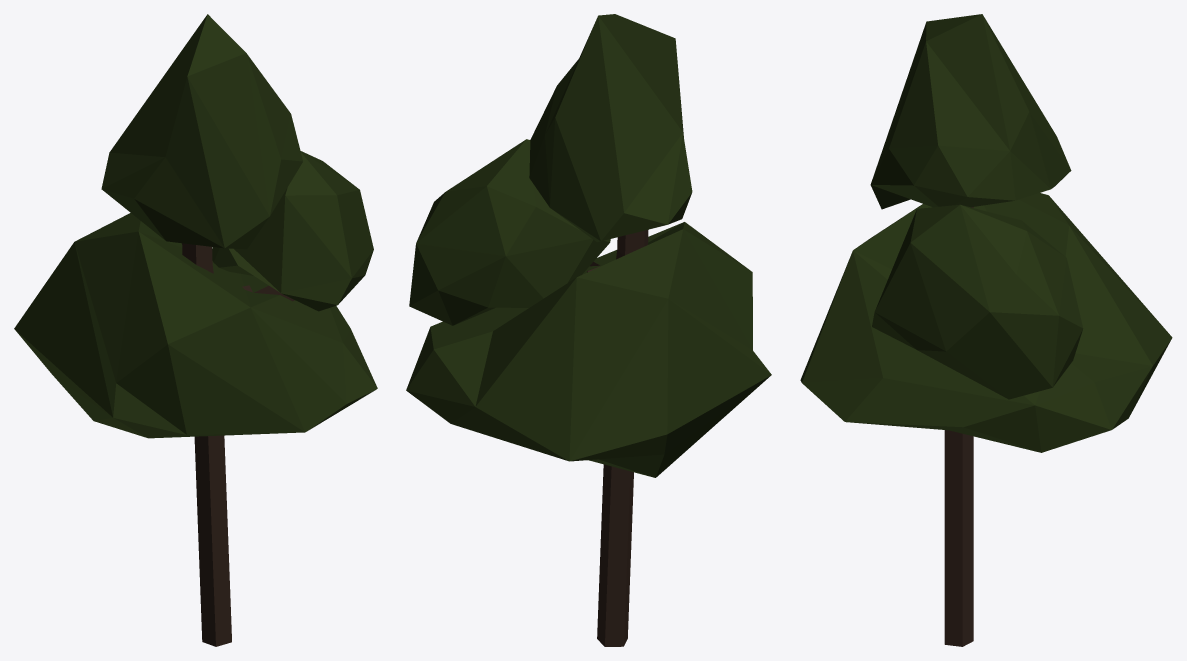
File: tree.obj
3 renders of one model, left to right at view 1: azimuth 30°, elevation 25°; view 2: azimuth 150°, elevation 25°; view 3: azimuth 270°, elevation 25°, orthographic. The views are drawn at different scales.
Parts seen in each view (by area): view 1: Tree_Type4_01_Model.003, Cylinder.003; view 2: Tree_Type4_01_Model.003, Cylinder.003; view 3: Tree_Type4_01_Model.003, Cylinder.003.
Boxes of the visible parts, x1,y1,x2,y2 form: Tree_Type4_01_Model.003: (14,14,377,438); Cylinder.003: (182,243,294,646); Tree_Type4_01_Model.003: (406,14,771,477); Cylinder.003: (587,229,648,646); Tree_Type4_01_Model.003: (800,14,1172,452); Cylinder.003: (944,207,973,646).
Bounding box in the file's own units: 0.21 × 0.4305 × 0.2308.
